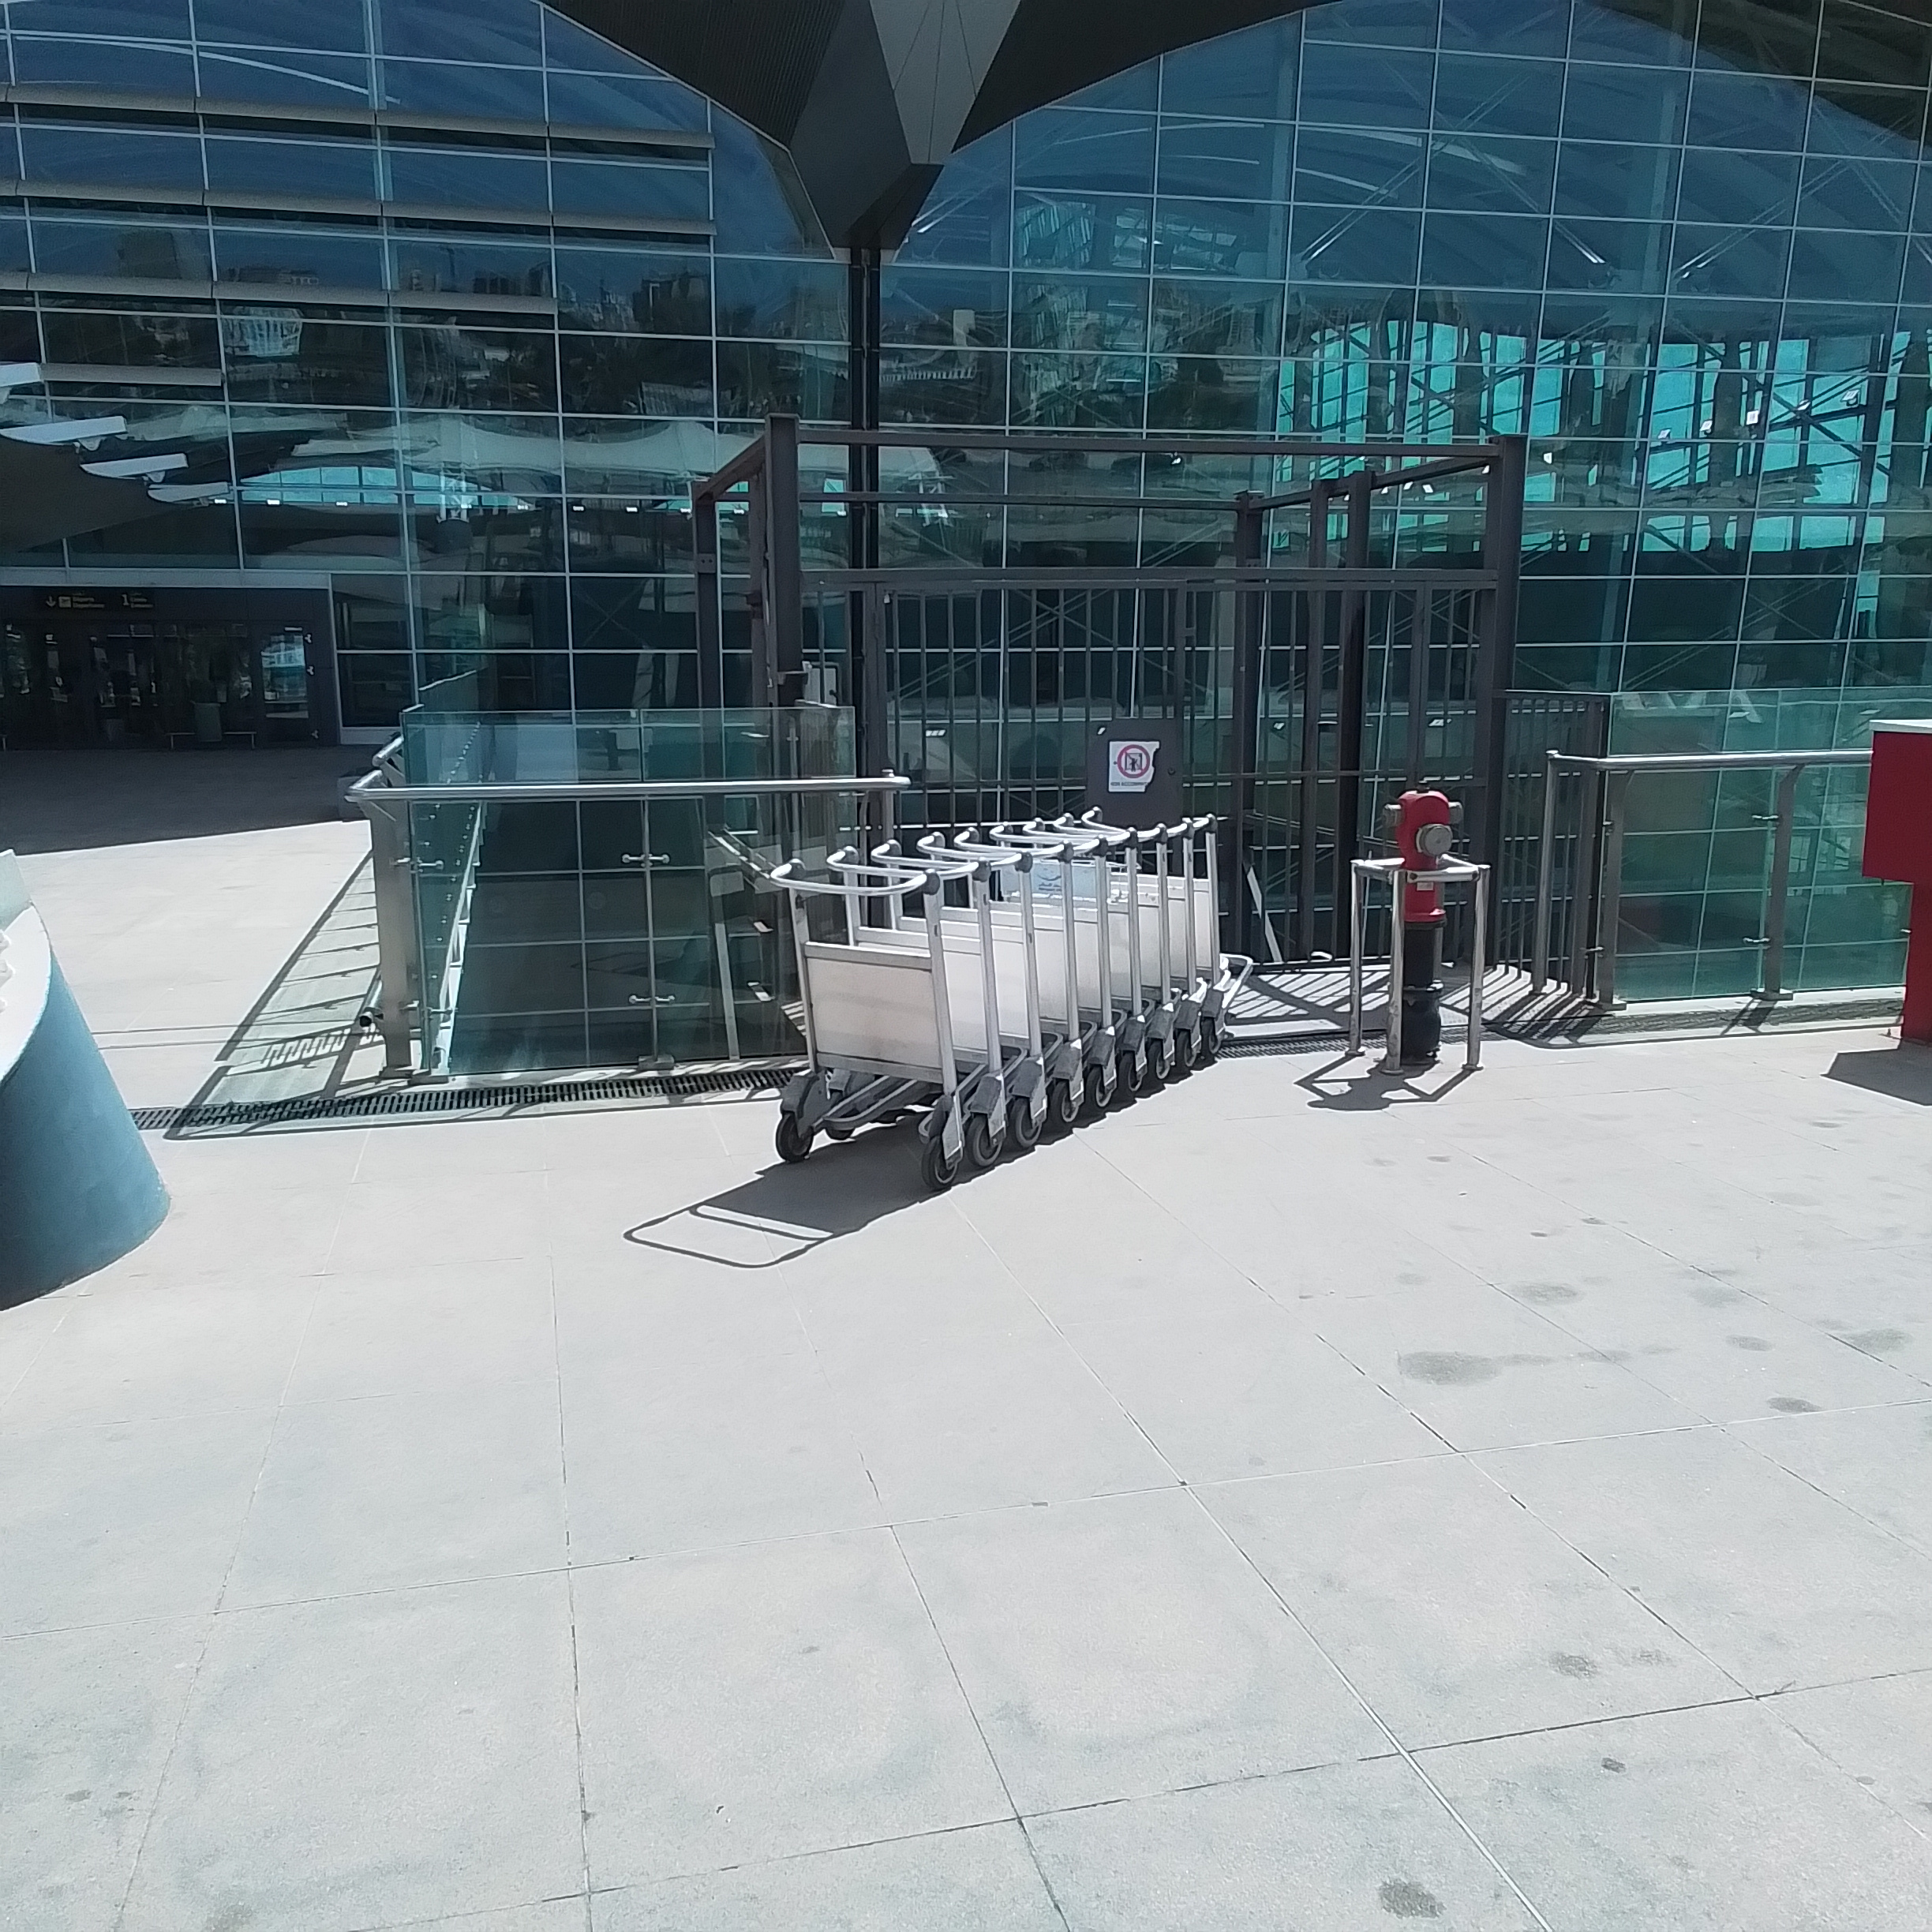airport-trolley: (763, 872, 952, 1192), (817, 856, 994, 1187), (870, 840, 1028, 1173), (936, 819, 1085, 1146), (893, 830, 1042, 1155), (1008, 819, 1116, 1118), (1122, 798, 1189, 1099), (1184, 798, 1260, 1062), (1164, 798, 1221, 1070)
